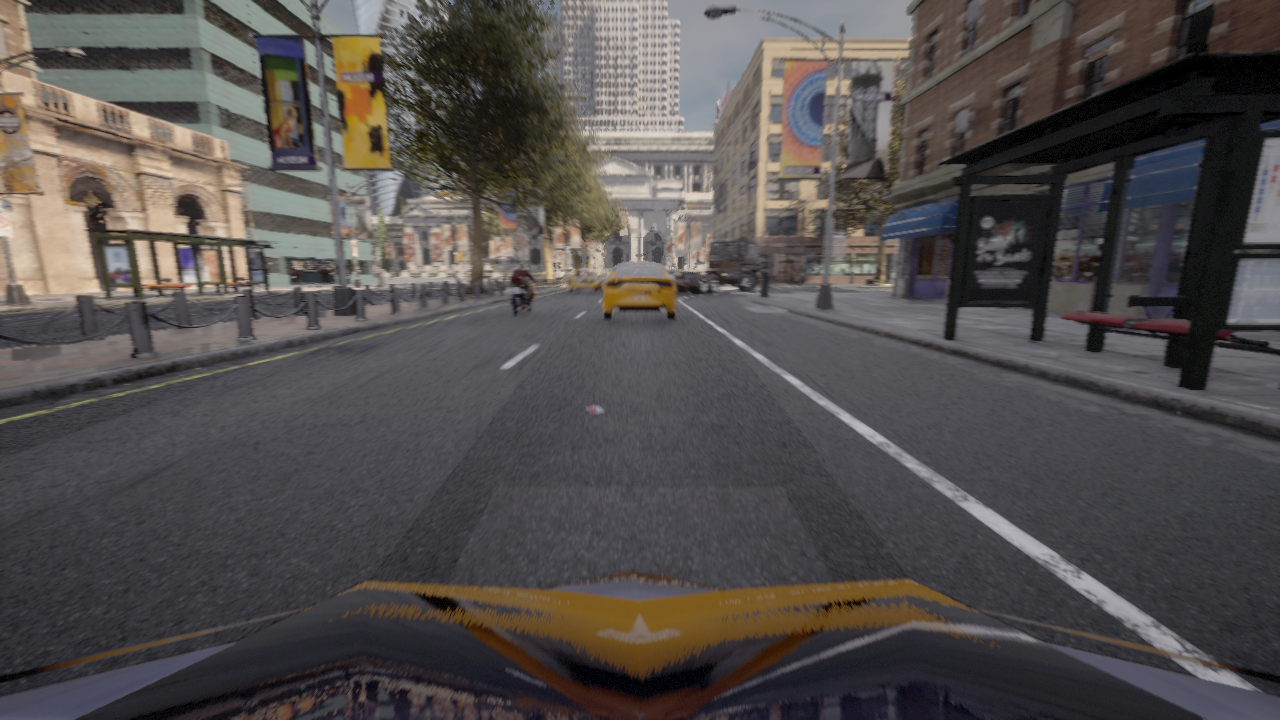cyclist: (0, 569, 1279, 719), (668, 236, 760, 294), (603, 262, 676, 319), (507, 274, 540, 316), (569, 267, 601, 292), (287, 269, 302, 281)
